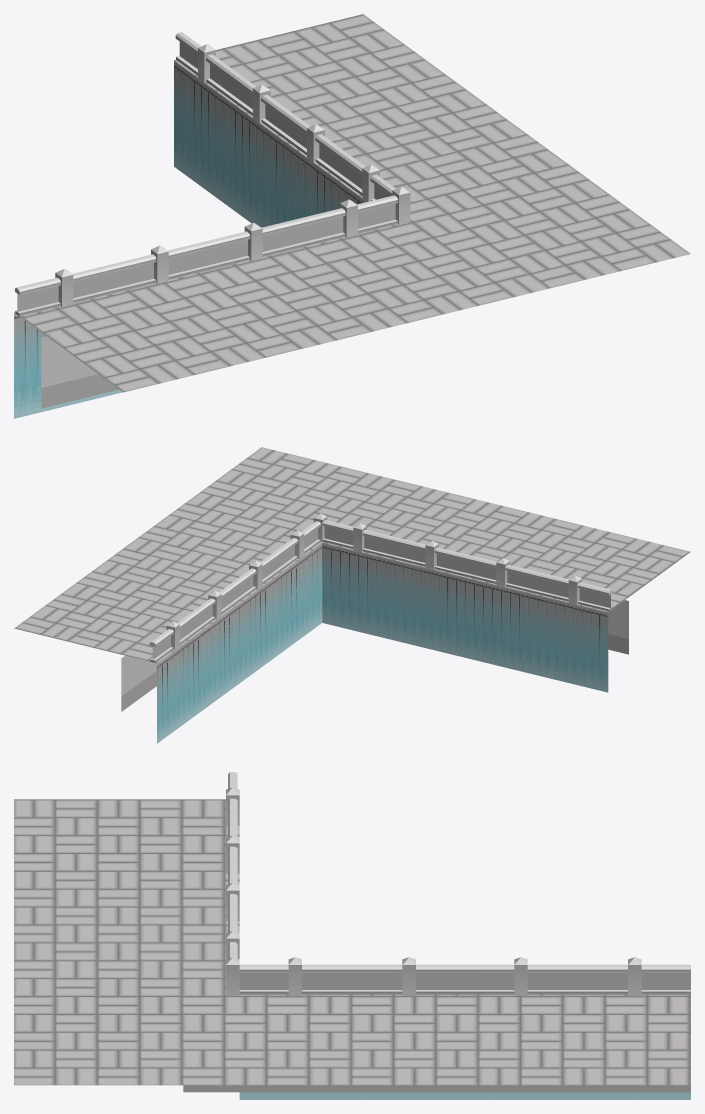
The model's file is Seafront_Interior_Corner.fbx.
3 views of the same model, one above another, from view 1: azimuth 30°, elevation 25°; view 2: azimuth 150°, elevation 25°; view 3: azimuth 270°, elevation 25° (orthographic). The views are drawn at different scales.
Visible parts, largest first — view 1: Seafront_Interior_Corner; view 2: Seafront_Interior_Corner; view 3: Seafront_Interior_Corner.
Part boxes in pixels (left/top/right/bottom): Seafront_Interior_Corner: left=14, top=14, right=690, bottom=418; Seafront_Interior_Corner: left=14, top=447, right=690, bottom=743; Seafront_Interior_Corner: left=14, top=772, right=690, bottom=1099.
Bounding box in the file's own units: 2000 × 475 × 2000.
